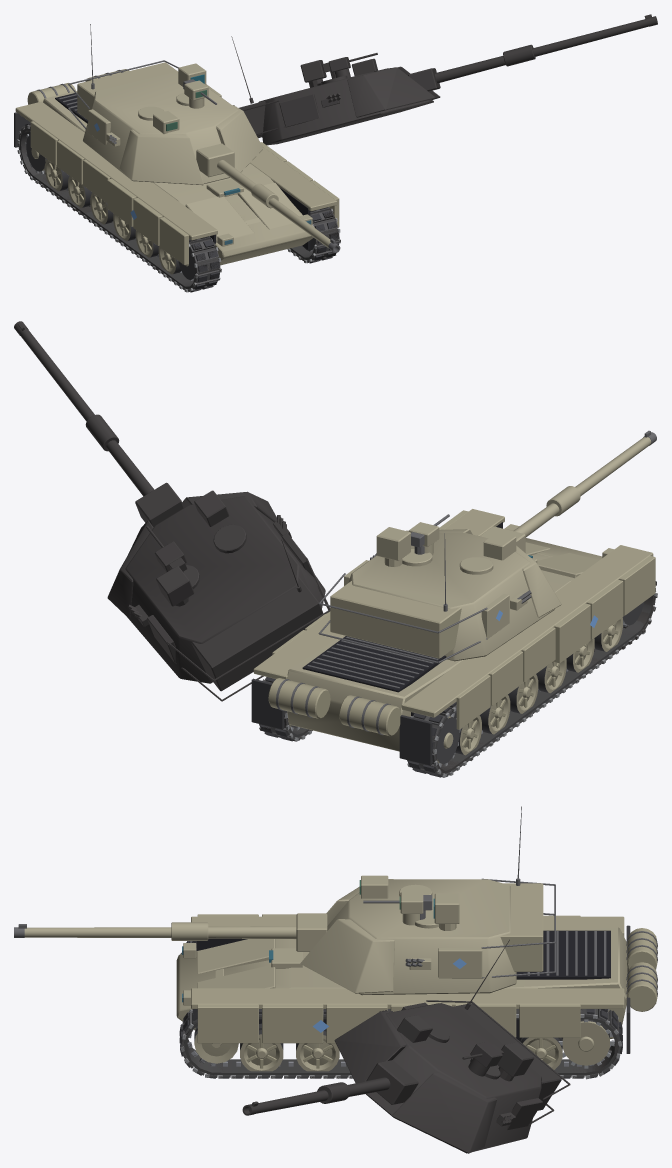
Rendered from tank__type_99a.glb.
The picture shows the model from 3 angles, top to bottom: view 1: azimuth 30°, elevation 25°; view 2: azimuth 150°, elevation 25°; view 3: azimuth 270°, elevation 25°; orthographic projection. The views are drawn at different scales.
Visible parts, largest first — view 1: Hull_Mesh, Turret_Mesh, Wreck, Track_L_Mesh, Gun_Mesh, Track_R_Mesh, CITV_Mesh, Wheel_L0_Mesh, Wheel_L1_Mesh, Gunner_Sight_Mesh, Wheel_L2_Mesh; view 2: Hull_Mesh, Wreck, Turret_Mesh, Track_L_Mesh, Gun_Mesh, Sprocket_L_Mesh, Wheel_L1_Mesh, Wheel_L2_Mesh, Gunner_Sight_Mesh, Wheel_L3_Mesh, Wheel_L0_Mesh, Track_R_Mesh; view 3: Hull_Mesh, Wreck, Turret_Mesh, Track_R_Mesh, Gun_Mesh, Sprocket_R_Mesh, Wheel_R5_Mesh, Wheel_R4_Mesh, Wheel_R0_Mesh, Idler_R_Mesh, CITV_Mesh, Gunner_Sight_Mesh.
Part boxes in pixels (<box>): Hull_Mesh: <box>14,69,339,265</box>; Turret_Mesh: <box>68,60,263,185</box>; Wreck: <box>17,14,657,290</box>; Track_L_Mesh: <box>17,123,221,292</box>; Gun_Mesh: <box>196,143,340,252</box>; Track_R_Mesh: <box>287,207,340,263</box>; CITV_Mesh: <box>184,80,208,108</box>; Wheel_L0_Mesh: <box>45,159,69,191</box>; Wheel_L1_Mesh: <box>68,176,91,207</box>; Gunner_Sight_Mesh: <box>153,111,179,133</box>; Wheel_L2_Mesh: <box>90,192,113,224</box>; Hull_Mesh: <box>251,509,655,765</box>; Wreck: <box>14,321,657,774</box>; Turret_Mesh: <box>318,527,561,663</box>; Track_L_Mesh: <box>407,585,657,777</box>; Gun_Mesh: <box>480,430,656,552</box>; Sprocket_L_Mesh: <box>436,713,460,767</box>; Wheel_L1_Mesh: <box>479,695,510,734</box>; Wheel_L2_Mesh: <box>508,674,538,713</box>; Gunner_Sight_Mesh: <box>483,532,516,560</box>; Wheel_L3_Mesh: <box>536,659,566,693</box>; Wheel_L0_Mesh: <box>450,711,481,755</box>; Track_R_Mesh: <box>259,677,312,741</box>; Hull_Mesh: <box>176,914,657,1053</box>; Wreck: <box>180,939,622,1153</box>; Turret_Mesh: <box>300,878,555,995</box>; Track_R_Mesh: <box>179,1009,622,1079</box>; Gun_Mesh: <box>14,913,327,951</box>; Sprocket_R_Mesh: <box>558,1019,613,1068</box>; Wheel_R5_Mesh: <box>240,1023,283,1071</box>; Wheel_R4_Mesh: <box>296,1029,339,1071</box>; Wheel_R0_Mesh: <box>519,1037,562,1069</box>; Idler_R_Mesh: <box>194,1026,238,1063</box>; CITV_Mesh: <box>399,892,423,925</box>; Gunner_Sight_Mesh: <box>359,875,388,898</box>.
Size of what is drawn, in the model's own units: 11.8 by 3.83 by 10.81.
